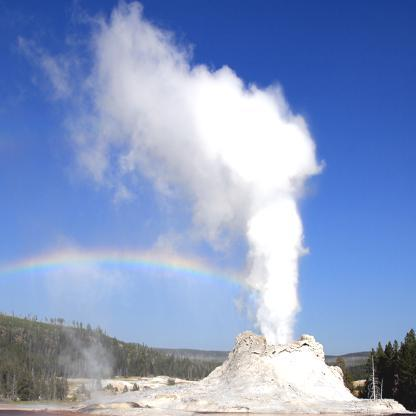smoke: (74, 25, 218, 216), (213, 83, 312, 344)
